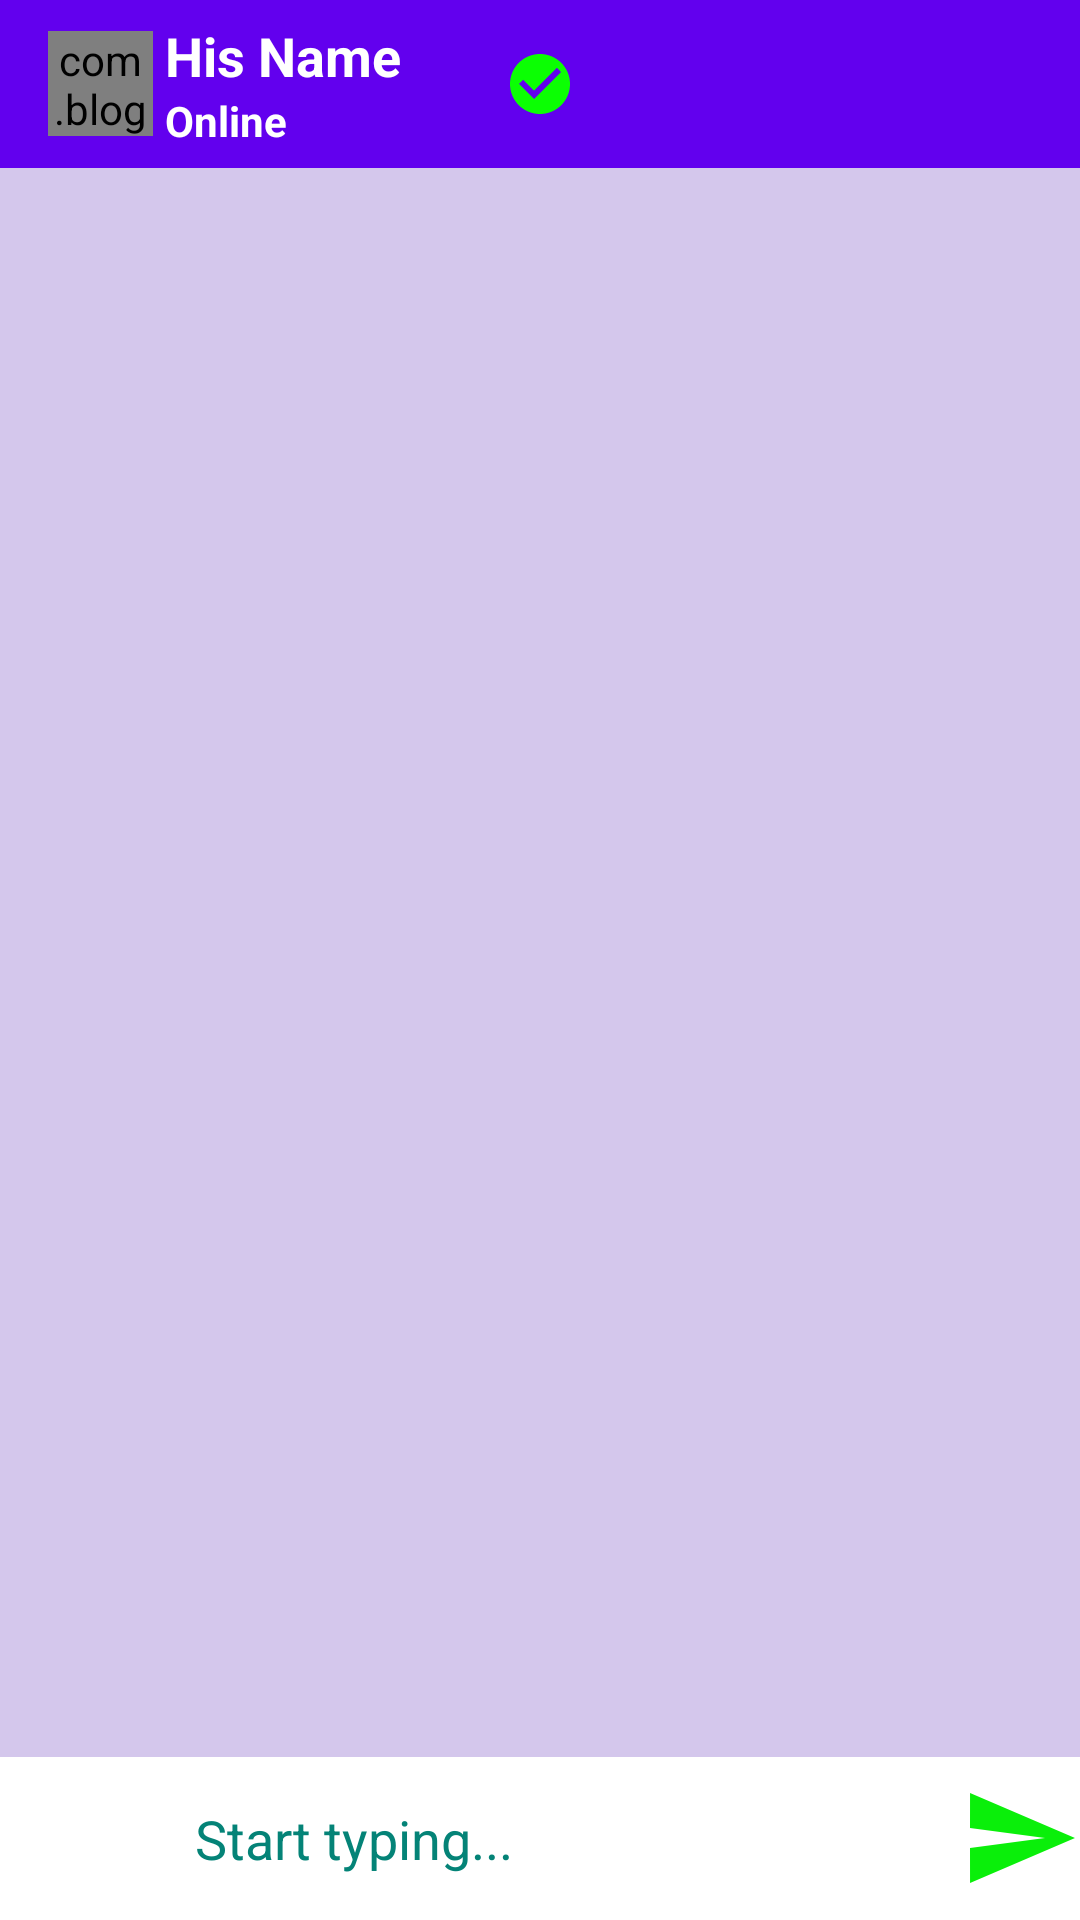

Screen size 1080w x 1920h. Icon name, then its box in pixels as (x1,y1,x2,y2):
send: (970,1793,1075,1883)
